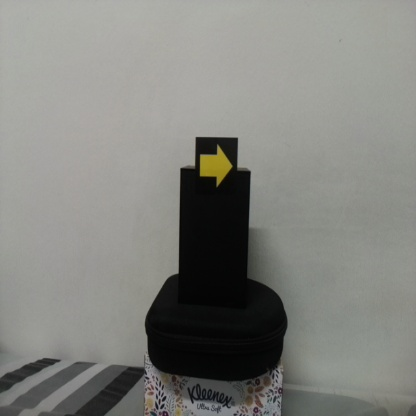id_3: (195, 138, 238, 197)
